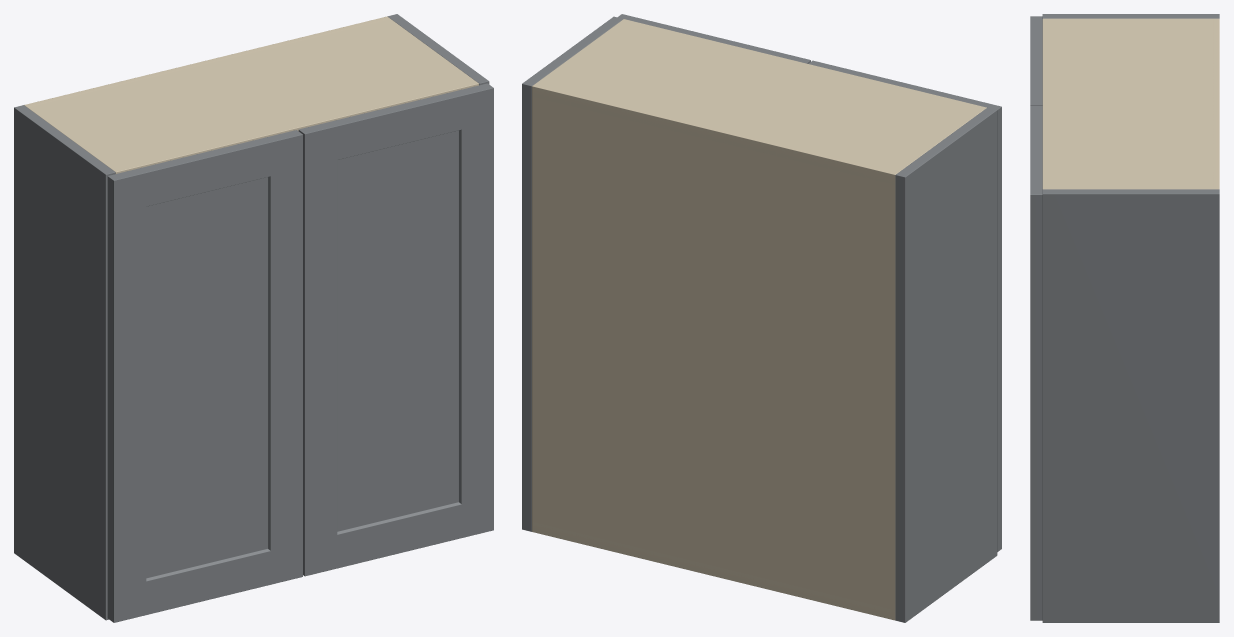
The model's file is oppein-ply-gss-w2730.glb.
3 views of the same model, side by side, from view 1: azimuth 30°, elevation 25°; view 2: azimuth 150°, elevation 25°; view 3: azimuth 270°, elevation 25° (orthographic). The views are drawn at different scales.
Parts seen in each view (by area): view 1: Door, Door.001, Cabinet side, Cabinet top, Cabinet back, Cabinet side.001; view 2: Cabinet back, Cabinet side, Cabinet top, Cabinet side.001, Cabinet bottom, Door, Door.001; view 3: Cabinet side.001, Cabinet top, Door.001, Cabinet back, Door, Cabinet side.
Part boxes in pixels (<box>): Door: <box>107,130,302,622</box>; Door.001: <box>298,83,493,576</box>; Cabinet side: <box>14,105,115,620</box>; Cabinet top: <box>24,17,478,173</box>; Cabinet back: <box>25,16,389,107</box>; Cabinet side.001: <box>387,14,489,85</box>; Cabinet back: <box>532,83,898,620</box>; Cabinet side: <box>895,107,997,622</box>; Cabinet top: <box>532,19,986,184</box>; Cabinet side.001: <box>522,16,623,531</box>; Cabinet bottom: <box>532,522,895,620</box>; Door: <box>808,60,1001,551</box>; Door.001: <box>617,14,810,63</box>; Cabinet side.001: <box>1042,189,1219,622</box>; Cabinet top: <box>1042,18,1219,189</box>; Door.001: <box>1030,106,1042,620</box>; Cabinet back: <box>1212,18,1219,189</box>; Door: <box>1030,16,1042,105</box>; Cabinet side: <box>1042,14,1219,18</box>.
Size of the model in its own units: 0.6858 by 0.762 by 0.3048.
